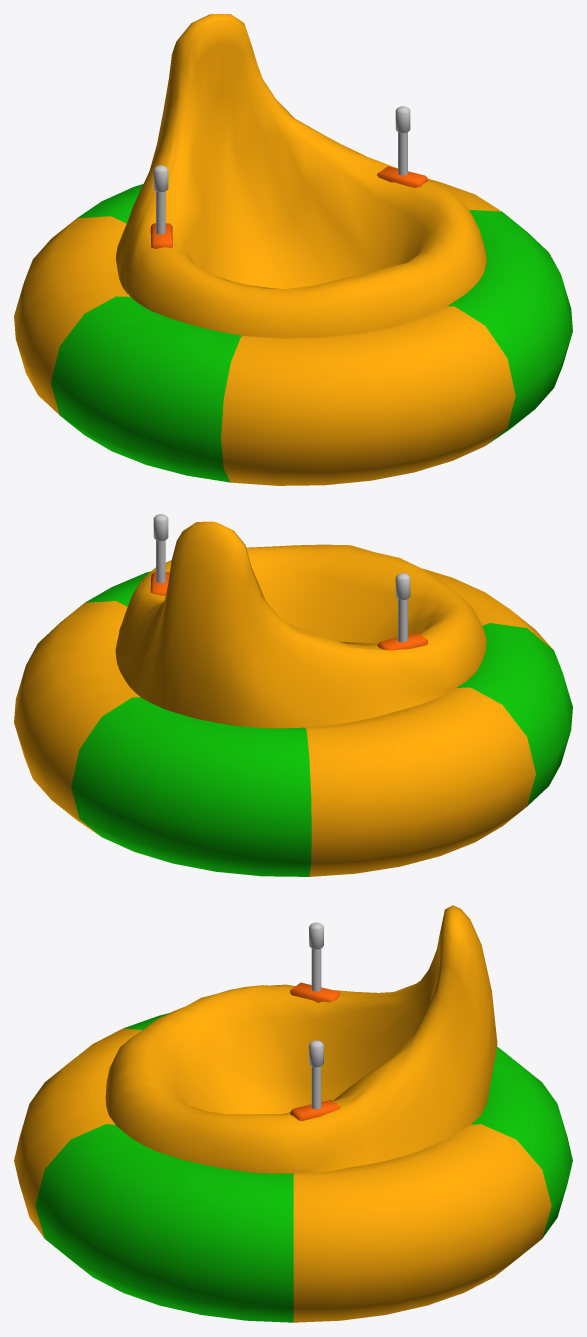
File: Car1.fbx
3 views of the same model, one above another, from view 1: azimuth 30°, elevation 25°; view 2: azimuth 150°, elevation 25°; view 3: azimuth 270°, elevation 25° (orthographic).
Parts seen in each view (by area): view 1: Car1, Handle_R, Handle_L; view 2: Car1, Handle_R, Handle_L; view 3: Car1, Handle_L, Handle_R.
Boxes of the visible parts, box(x1,y1,x2,y2) form: Car1: box(14, 14, 572, 485); Handle_R: box(153, 165, 168, 234); Handle_L: box(395, 106, 410, 175); Car1: box(14, 521, 572, 876); Handle_R: box(395, 573, 410, 642); Handle_L: box(153, 514, 168, 583); Car1: box(14, 905, 572, 1322); Handle_L: box(309, 1040, 323, 1109); Handle_R: box(309, 922, 323, 991).
Bounding box in the file's own units: 144 × 90.84 × 144.
